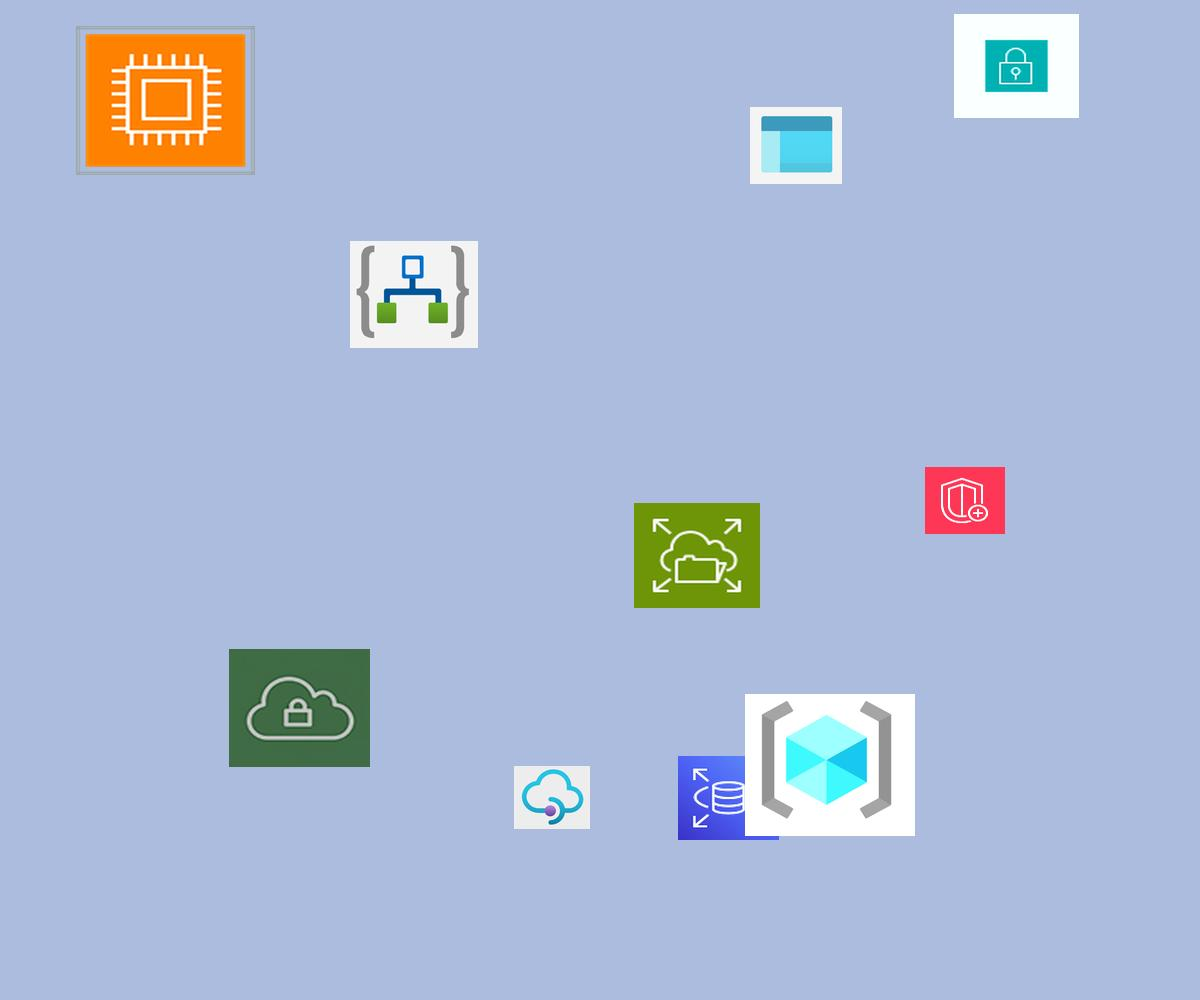AWS-Category_Compute: (76, 26, 255, 175)
AWS-EFS: (634, 503, 760, 608)
AWS-Private-subnet: (954, 14, 1079, 118)
AWS-Private_vpc: (229, 649, 370, 767)
AWS-RDS: (678, 756, 779, 840)
AWS-Shield: (925, 467, 1005, 534)
Azure_api_gateway: (514, 766, 590, 829)
Azure_integration-204-Logic-Apps: (350, 241, 478, 348)
Azure_management-portal: (750, 107, 842, 184)
Azure_resource_group: (745, 694, 915, 836)
